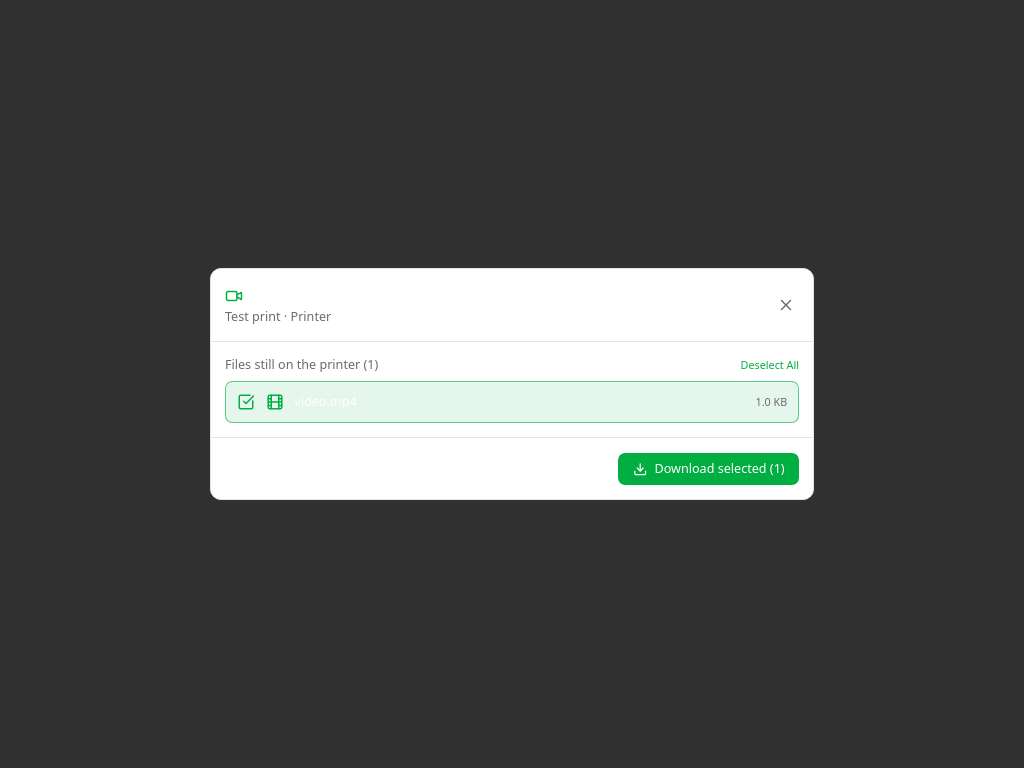
Test: ArchiveMediaDownloadModal › shows how far the preparation has got
Click the button "Download selected (1)". click: (709, 469)
box: left=618, top=453, right=799, bottom=485
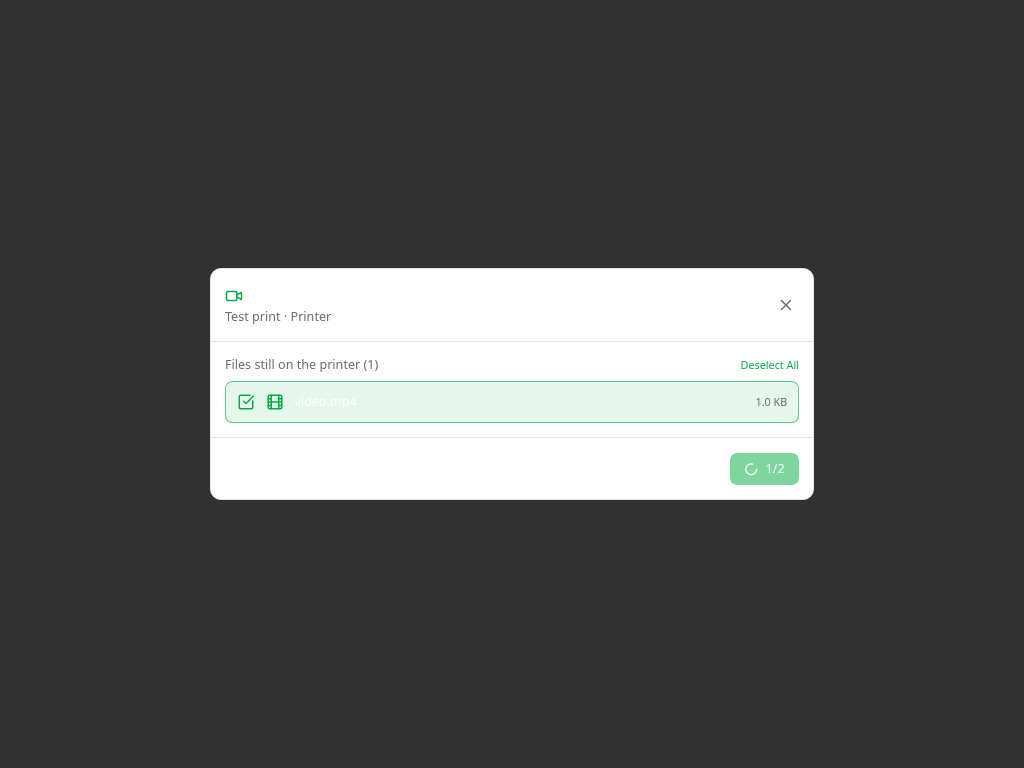
Expected: the button "1/2" is shown, left=730, top=453, right=799, bottom=485
